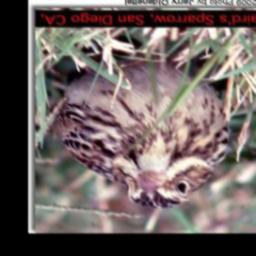Sparrow: (49, 33, 235, 211)
